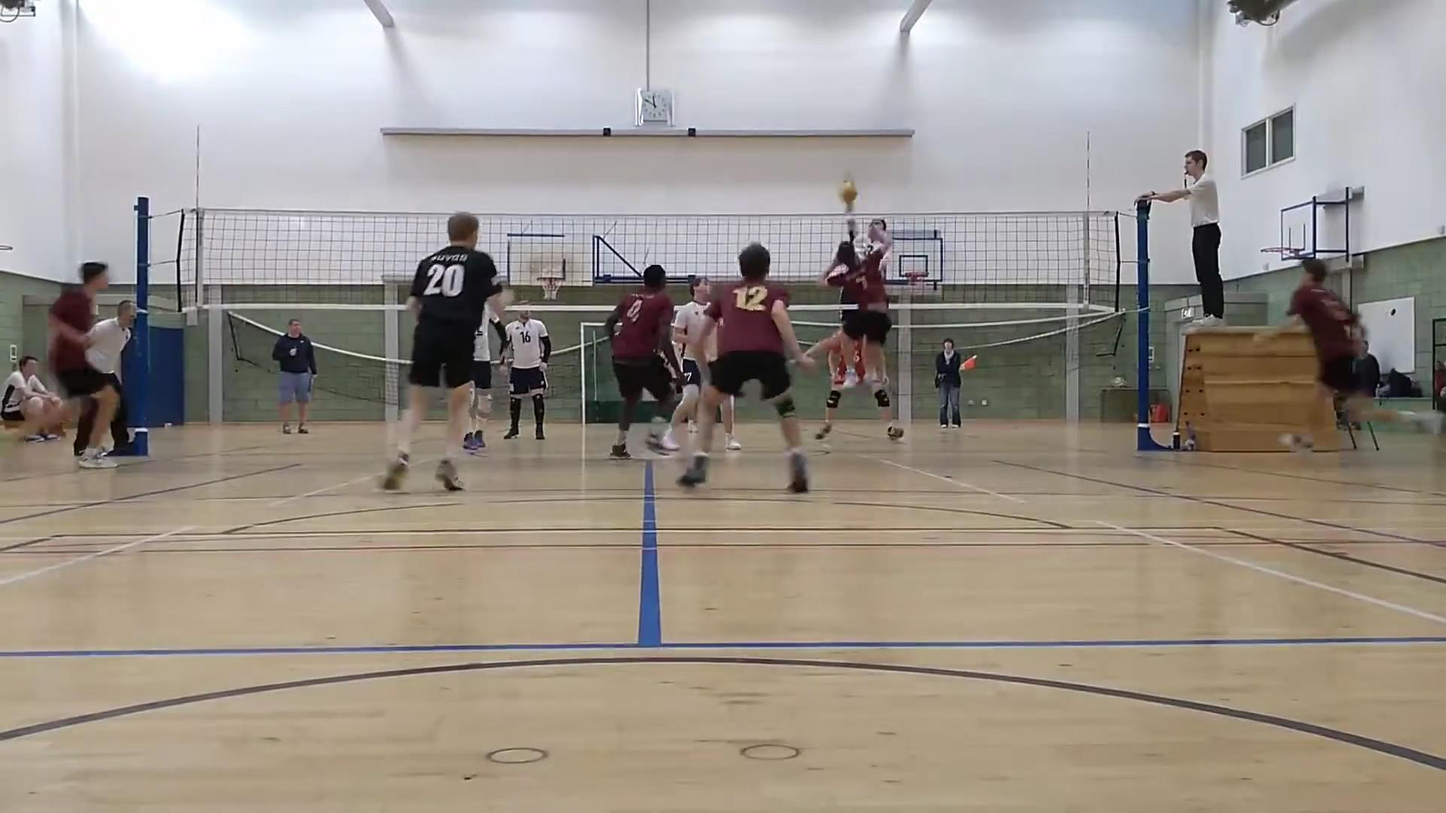Player: (382, 213, 507, 490), (679, 243, 814, 492), (1256, 258, 1445, 432), (821, 218, 903, 439), (605, 265, 679, 458), (50, 263, 118, 468), (662, 278, 715, 449), (807, 330, 866, 440), (504, 303, 551, 440), (463, 313, 505, 452)
ball: (833, 183, 858, 201)
